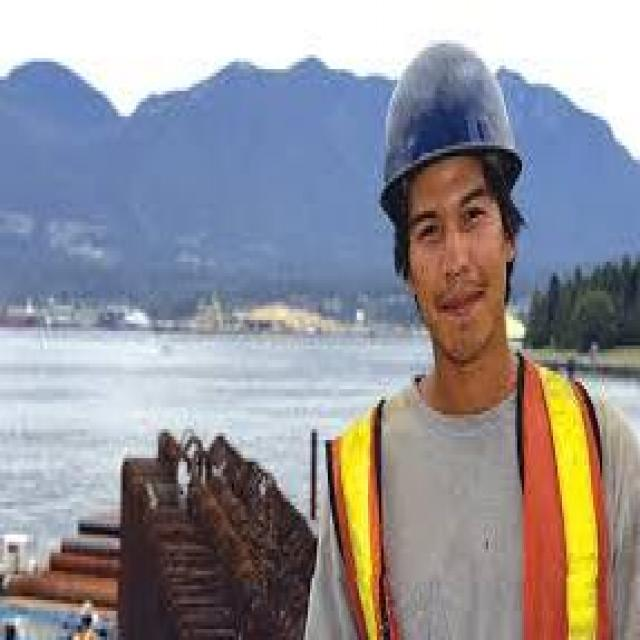Reflective-Jacket: (303, 353, 620, 636)
Safety-Helmet: (370, 32, 531, 214)
